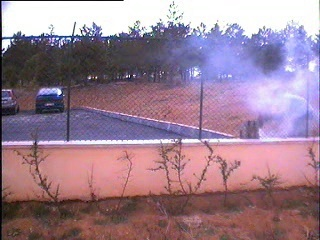smoke: (209, 26, 315, 138)
